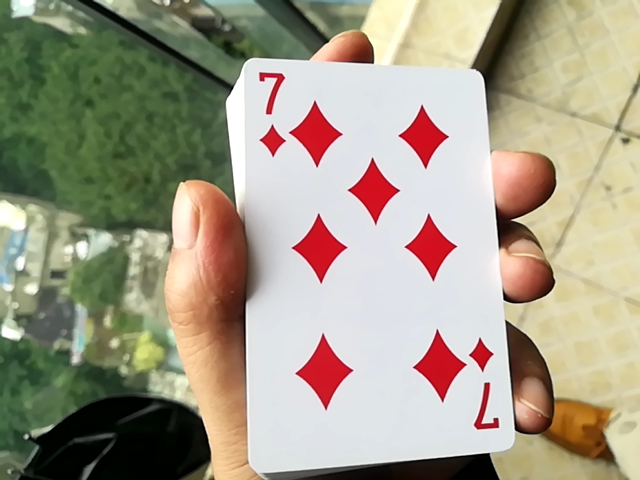fk 7: (215, 41, 505, 475)
